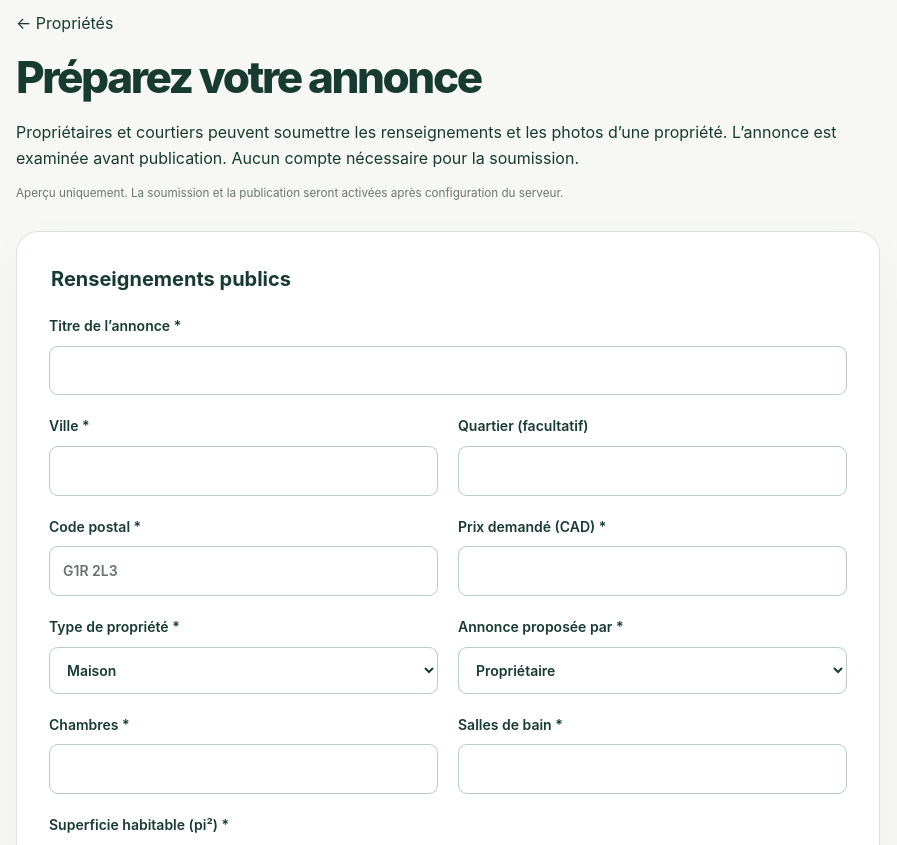
Scenario: requires an explicit subsidy choice when preparing a daycare listing and clears it when changing type
Select "Garderie" in the dropdown named "type". click: point(244, 670)
box: [49, 647, 438, 694]
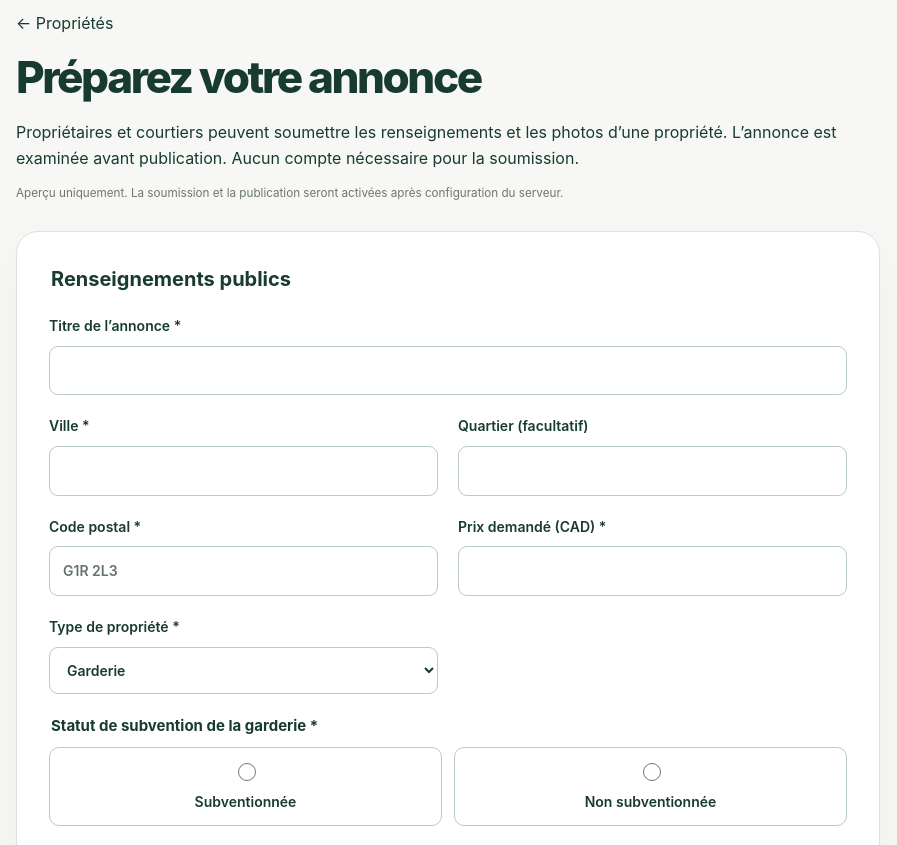
Click the radio button labelled "Subventionnée". click: point(246, 772)
box: [238, 763, 256, 781]
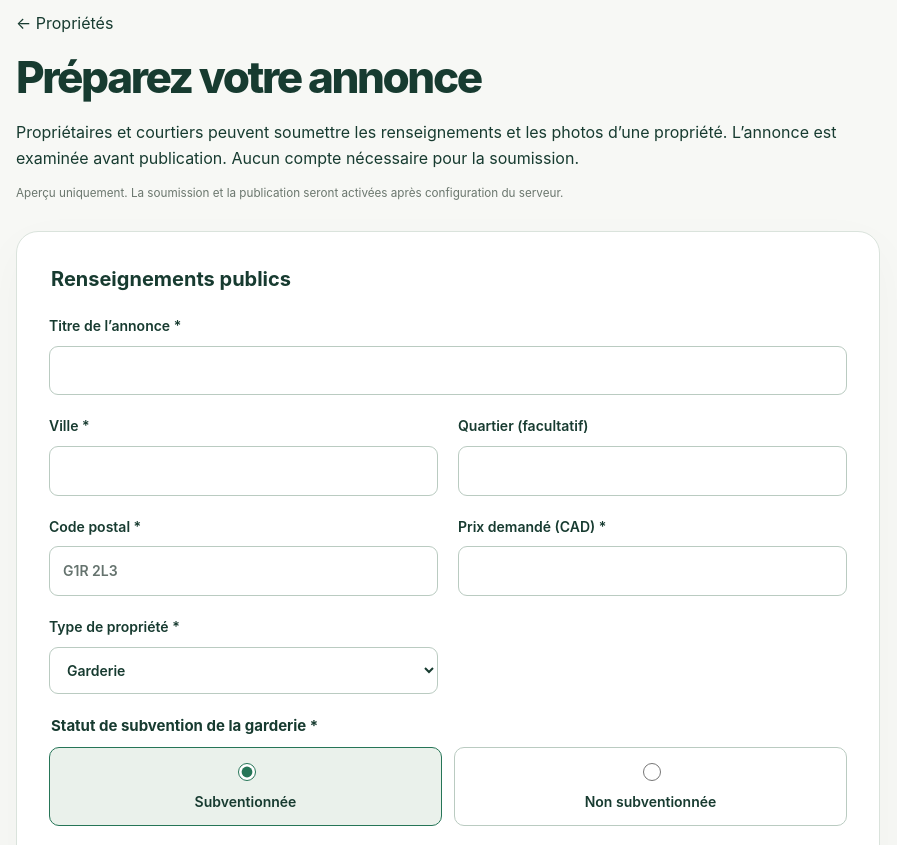
Select "Terrain" in the dropdown named "type". click: point(244, 670)
box: [49, 647, 438, 694]
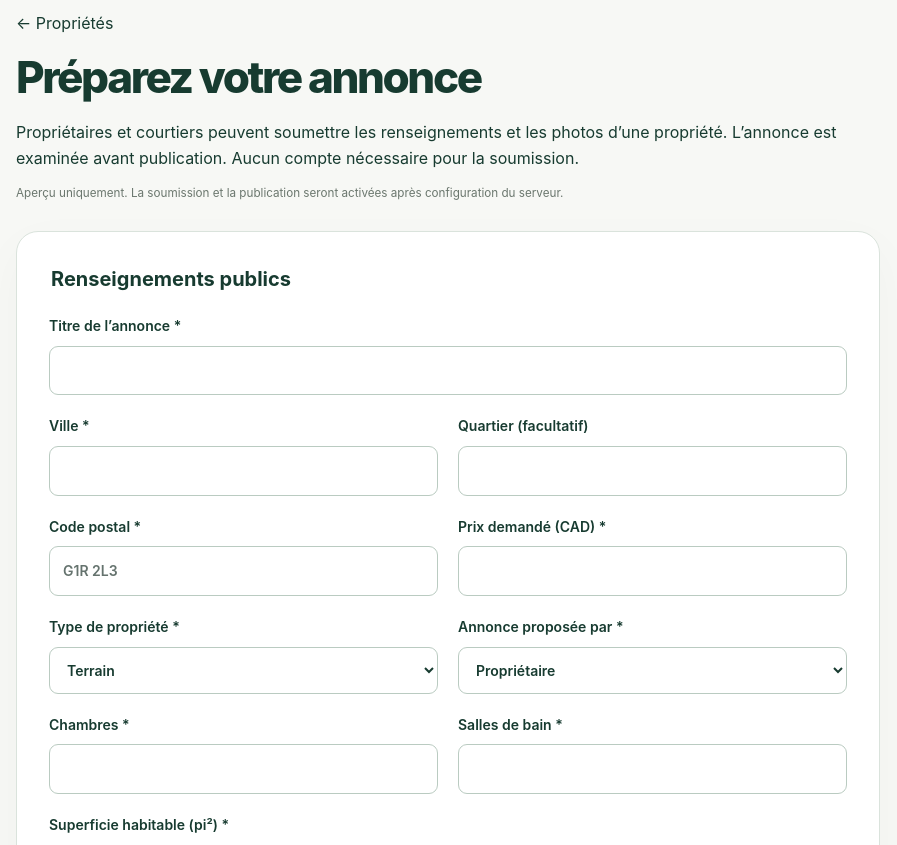
Select "Garderie" in the dropdown named "type". click: point(244, 670)
box: [49, 647, 438, 694]
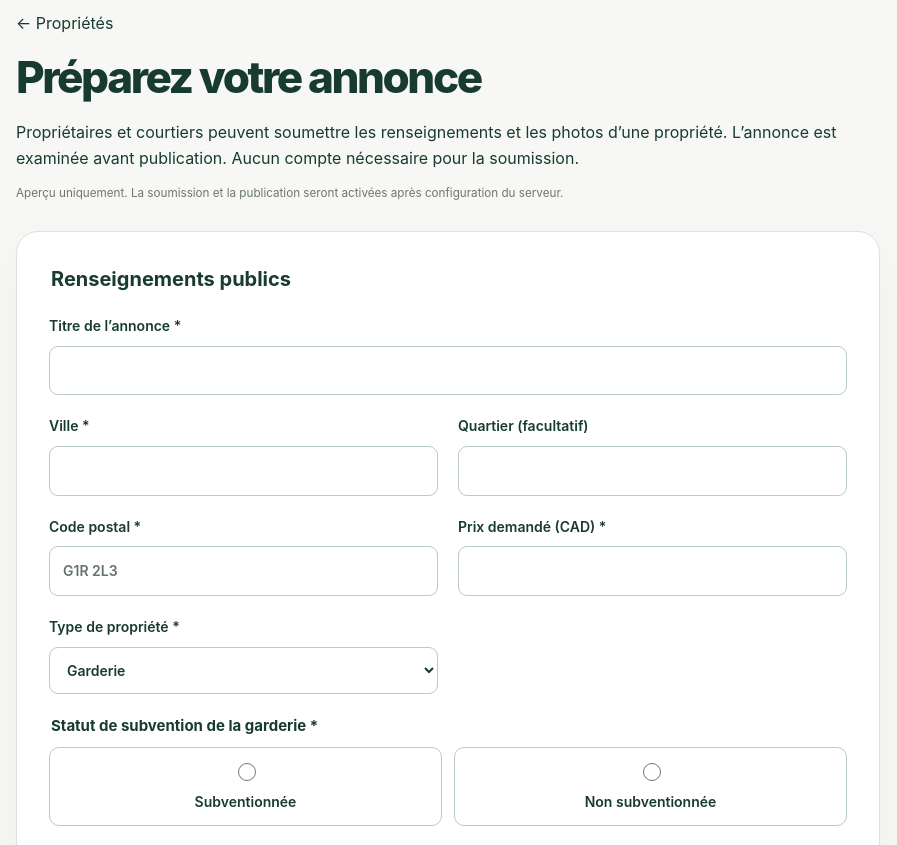
Now the radio button labelled "Subventionnée" is not checked, box [238, 763, 256, 781]
